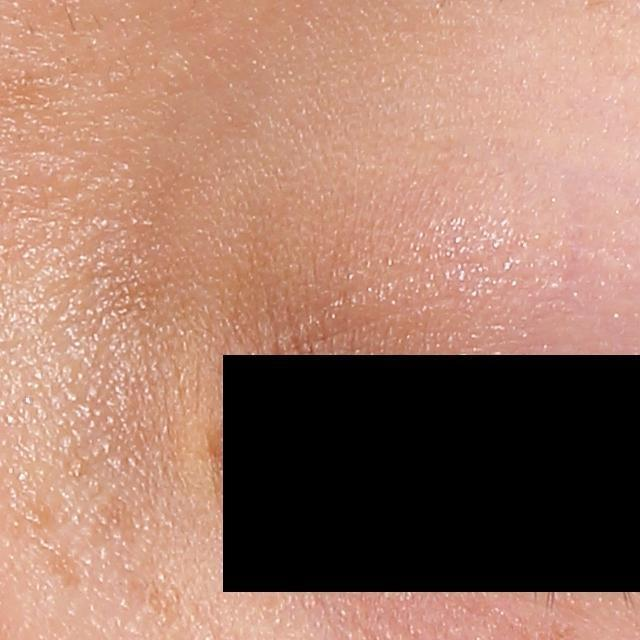melasma: (126, 571, 190, 618), (47, 547, 85, 589)
